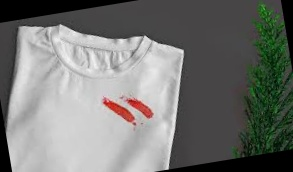lipstick: (127, 89, 156, 122), (106, 97, 139, 125), (100, 95, 121, 109)
